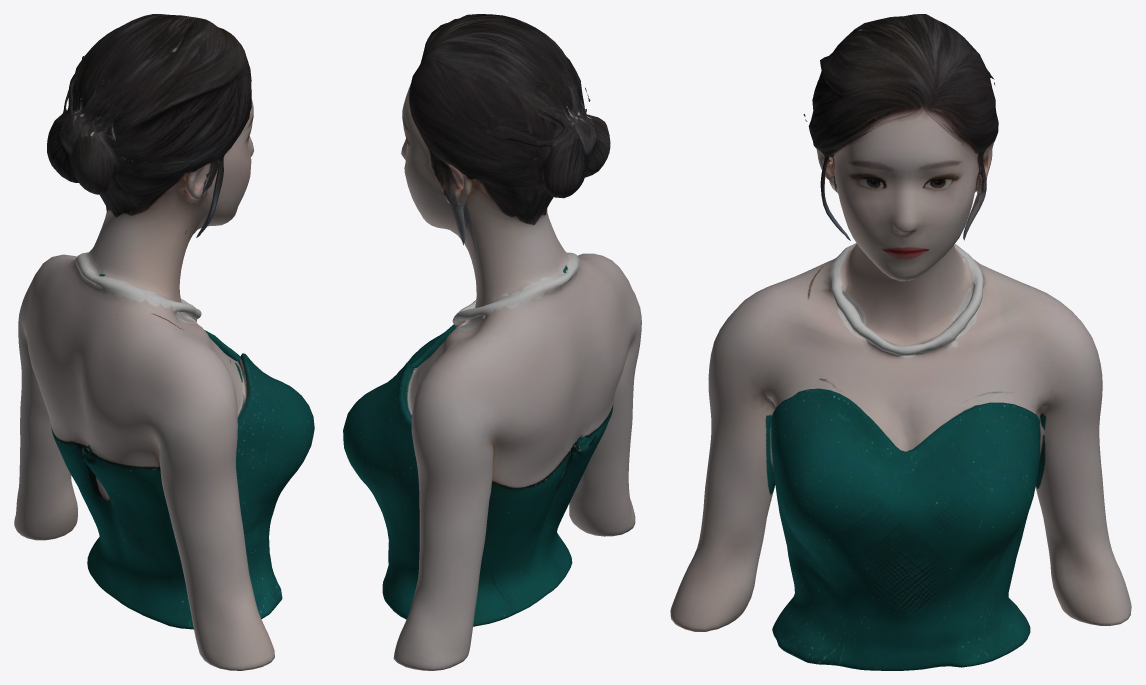
The model's file is suspect_3.glb.
The picture shows the model from 3 angles, left to right: view 1: azimuth 30°, elevation 25°; view 2: azimuth 150°, elevation 25°; view 3: azimuth 270°, elevation 25°; orthographic projection. The views are drawn at different scales.
Parts seen in each view (by area): view 1: tripo_node_52565d22-a688-4209-a1c4-9dd94cde08bc; view 2: tripo_node_52565d22-a688-4209-a1c4-9dd94cde08bc; view 3: tripo_node_52565d22-a688-4209-a1c4-9dd94cde08bc.
Part boxes in pixels (x1,y1,x2,y2): tripo_node_52565d22-a688-4209-a1c4-9dd94cde08bc: (14, 14, 314, 670); tripo_node_52565d22-a688-4209-a1c4-9dd94cde08bc: (343, 14, 641, 670); tripo_node_52565d22-a688-4209-a1c4-9dd94cde08bc: (670, 14, 1131, 670).
Size of the model in its own units: 0.3995 by 0.9979 by 0.6912.
Materials: 1 (1 with a texture image).
